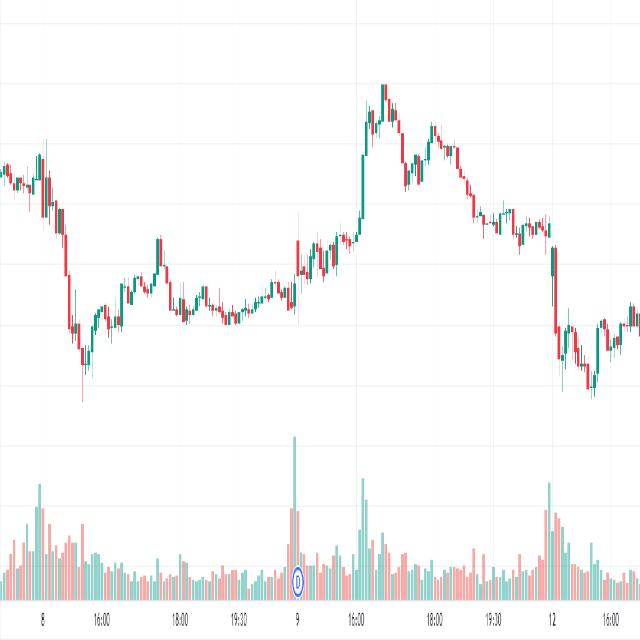Ascending-Triangle: (285, 215, 387, 360)
Descending-Triangle: (352, 41, 514, 194)
Head-Shoulders: (354, 62, 411, 252)
Inverse-Head-Shoulders: (56, 180, 128, 401)
Rounding-Bottom: (38, 71, 380, 386)
